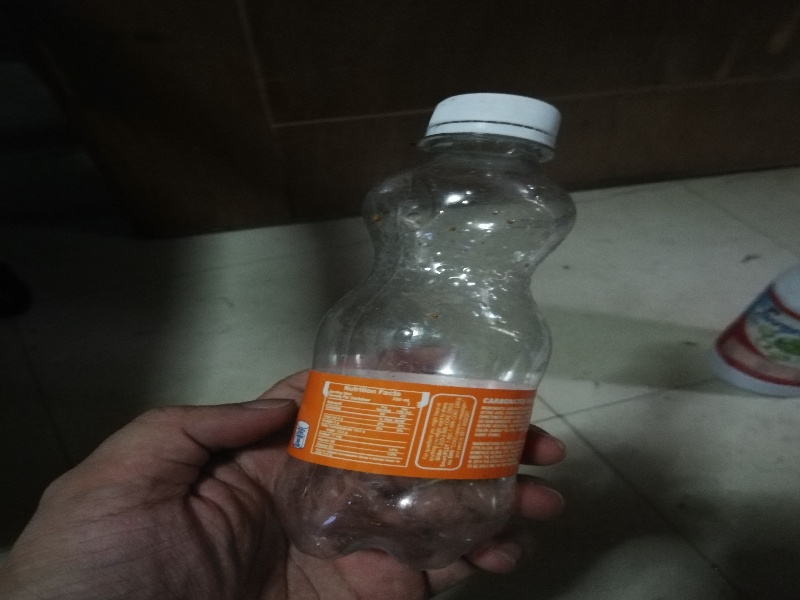PET #1: (282, 81, 583, 571)
